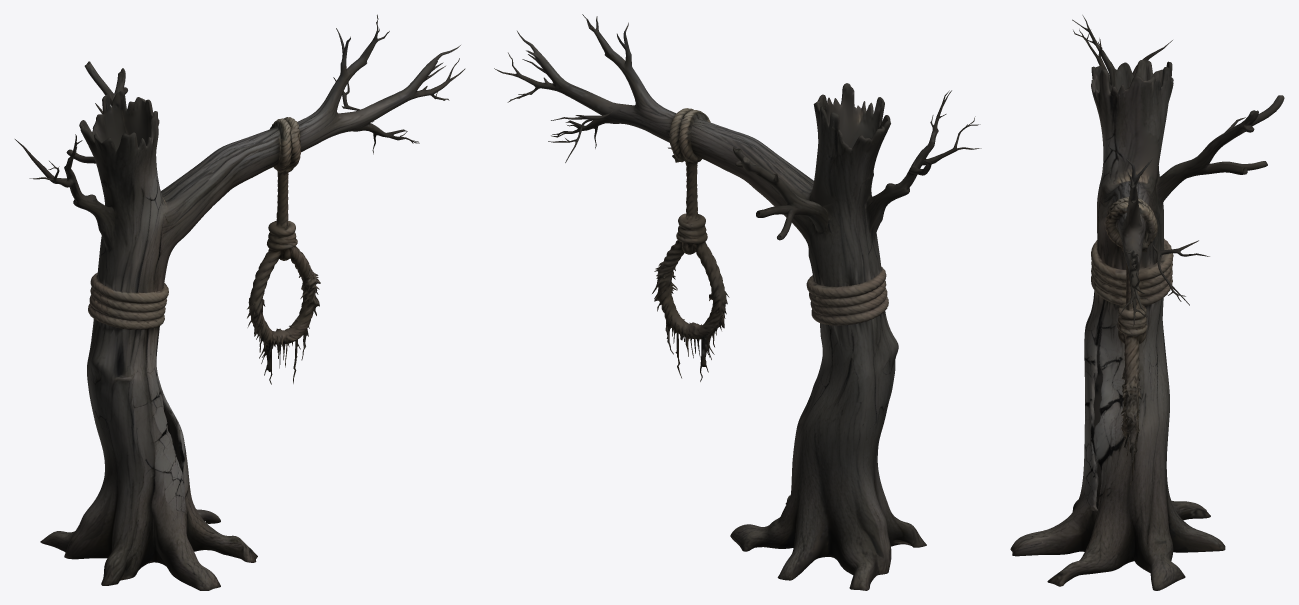
The model's file is Gallowstree.glb.
3 renders of one model, left to right at view 1: azimuth 30°, elevation 25°; view 2: azimuth 150°, elevation 25°; view 3: azimuth 270°, elevation 25°, orthographic. The views are drawn at different scales.
Parts seen in each view (by area): view 1: node_0; view 2: node_0; view 3: node_0.
Boxes of the visible parts, bbox=[...] form: node_0: bbox=[15, 14, 465, 590]; node_0: bbox=[494, 14, 981, 590]; node_0: bbox=[1010, 15, 1284, 590].
Size of the model in its own units: 0.9466 by 0.9317 by 0.4621.
1 material, 1 textured.
